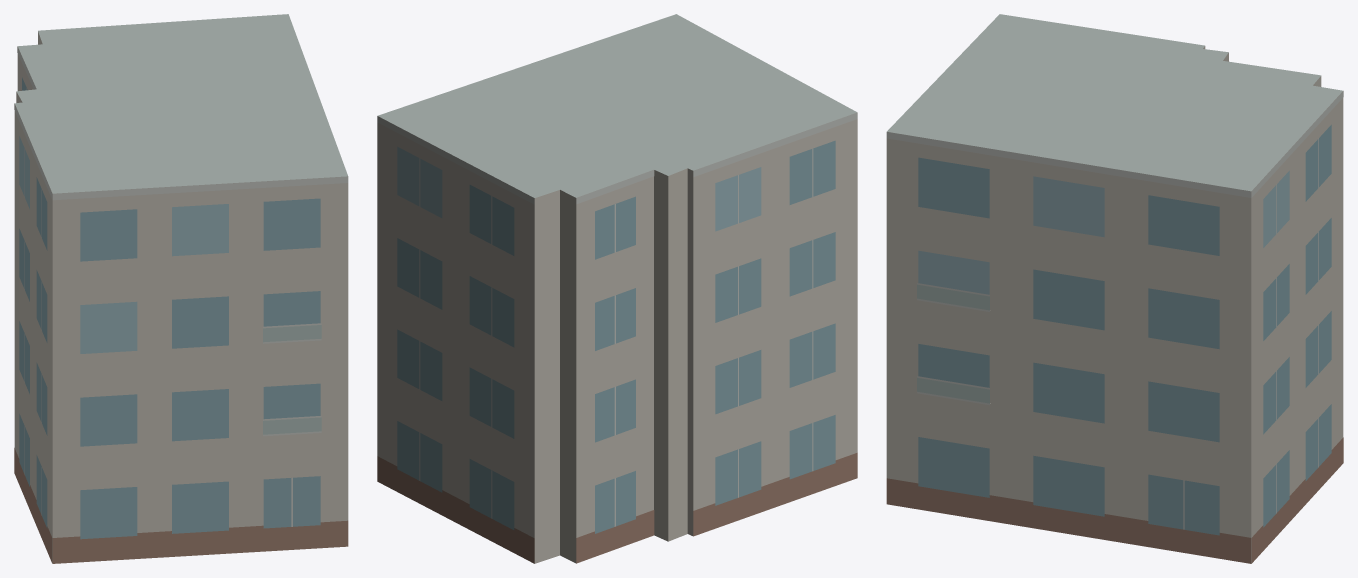
The model's file is survey-upis-32653507.glb.
3 renders of one model, left to right at view 1: azimuth 30°, elevation 25°; view 2: azimuth 150°, elevation 25°; view 3: azimuth 270°, elevation 25°, orthographic.
Parts seen in each view (by area): view 1: survey-upis-32653507.tmp; view 2: survey-upis-32653507.tmp; view 3: survey-upis-32653507.tmp.
Part boxes in pixels (bbox=[...]): survey-upis-32653507.tmp: bbox=[14, 14, 348, 563]; survey-upis-32653507.tmp: bbox=[377, 14, 857, 563]; survey-upis-32653507.tmp: bbox=[886, 14, 1343, 563].
Bounding box in the file's own units: 13.9 × 13.6 × 15.12.
